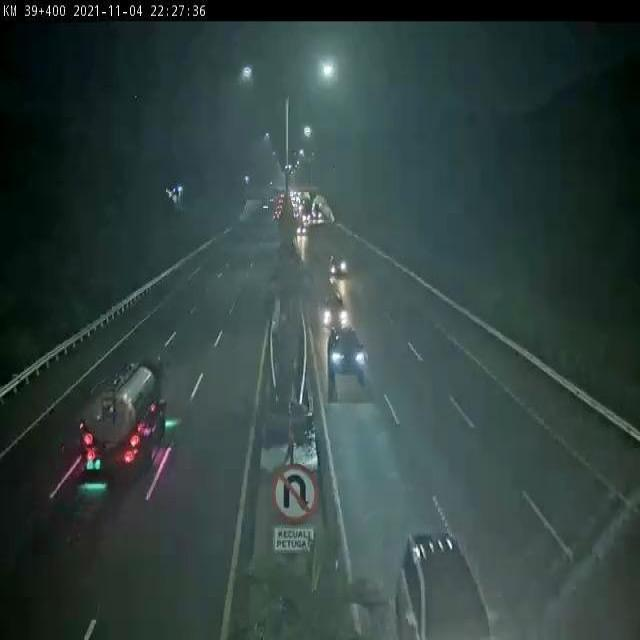car: (326, 326, 365, 382), (321, 293, 349, 327)
truck: (80, 360, 163, 479)
